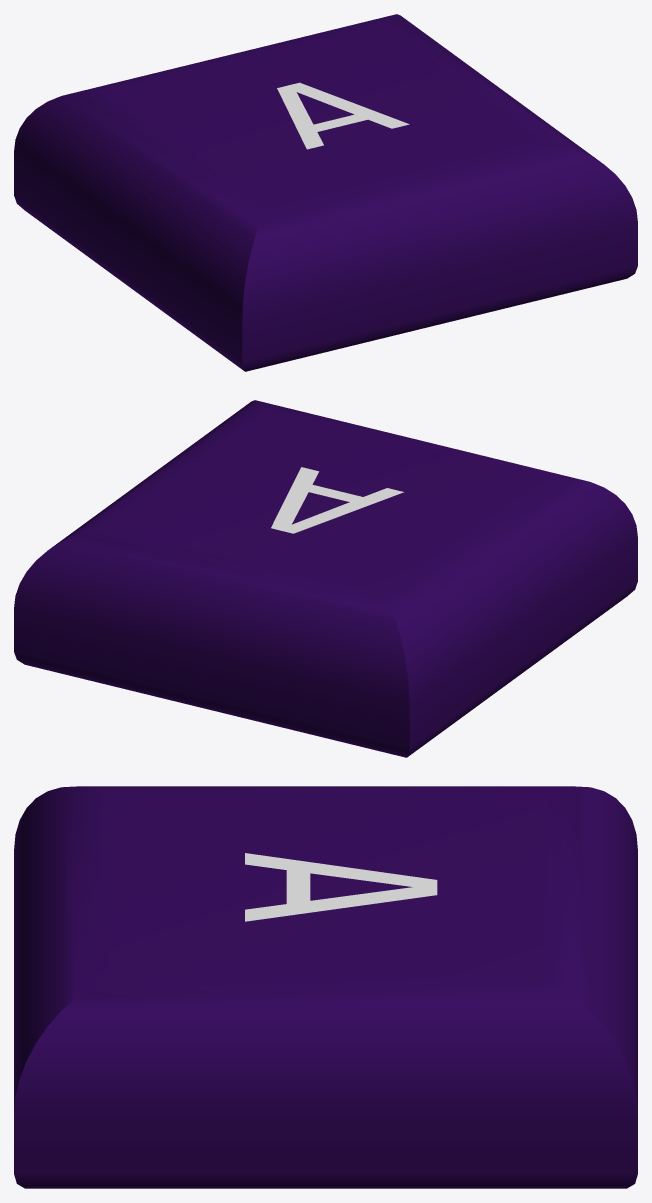
File: a-key.glb
3 renders of one model, top to bottom at view 1: azimuth 30°, elevation 25°; view 2: azimuth 150°, elevation 25°; view 3: azimuth 270°, elevation 25°, orthographic. The views are drawn at different scales.
Parts seen in each view (by area): view 1: Cube, Text; view 2: Cube, Text; view 3: Cube, Text.
Part boxes in pixels (x1,y1,x2,y2): Cube: [14, 14, 637, 371]; Text: [277, 82, 409, 149]; Cube: [14, 400, 637, 757]; Text: [271, 467, 403, 533]; Cube: [14, 786, 637, 1188]; Text: [245, 853, 437, 921].
Size of the model in its own units: 1.34 by 0.4228 by 1.34.
